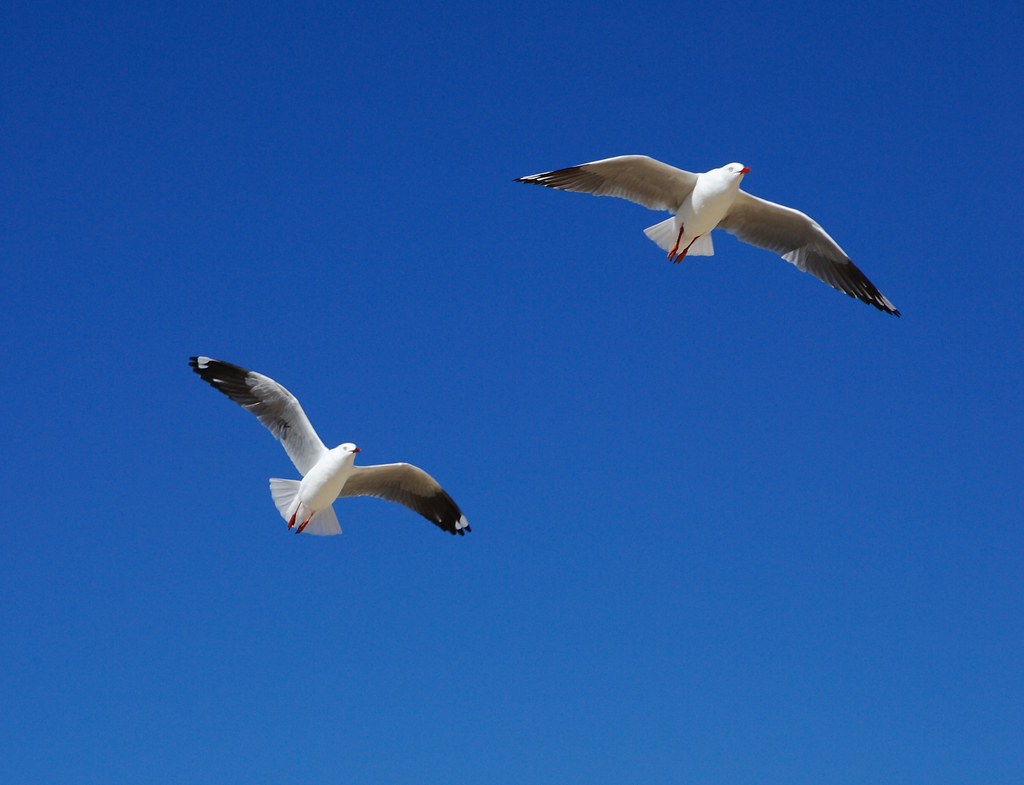Bird: (512, 154, 902, 317), (188, 356, 471, 536)
